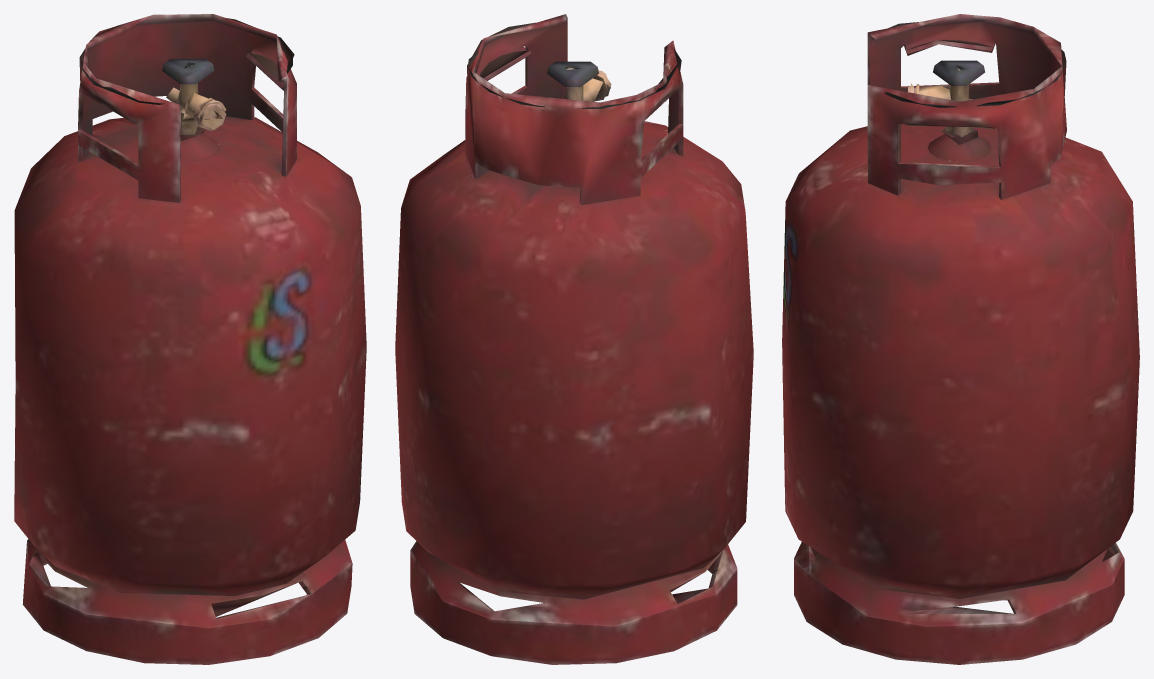
File: propane_tank.glb
The picture shows the model from 3 angles, left to right: view 1: azimuth 30°, elevation 25°; view 2: azimuth 150°, elevation 25°; view 3: azimuth 270°, elevation 25°; orthographic projection.
Parts seen in each view (by area): view 1: propane_tank; view 2: propane_tank; view 3: propane_tank.
Boxes of the visible parts, left/top/right/bottom form: propane_tank: left=14, top=14, right=366, bottom=664; propane_tank: left=395, top=14, right=753, bottom=664; propane_tank: left=782, top=14, right=1139, bottom=664.
Bounding box in the file's own units: 0.3279 × 0.5534 × 0.3341.
Materials: 1 (1 with a texture image).
